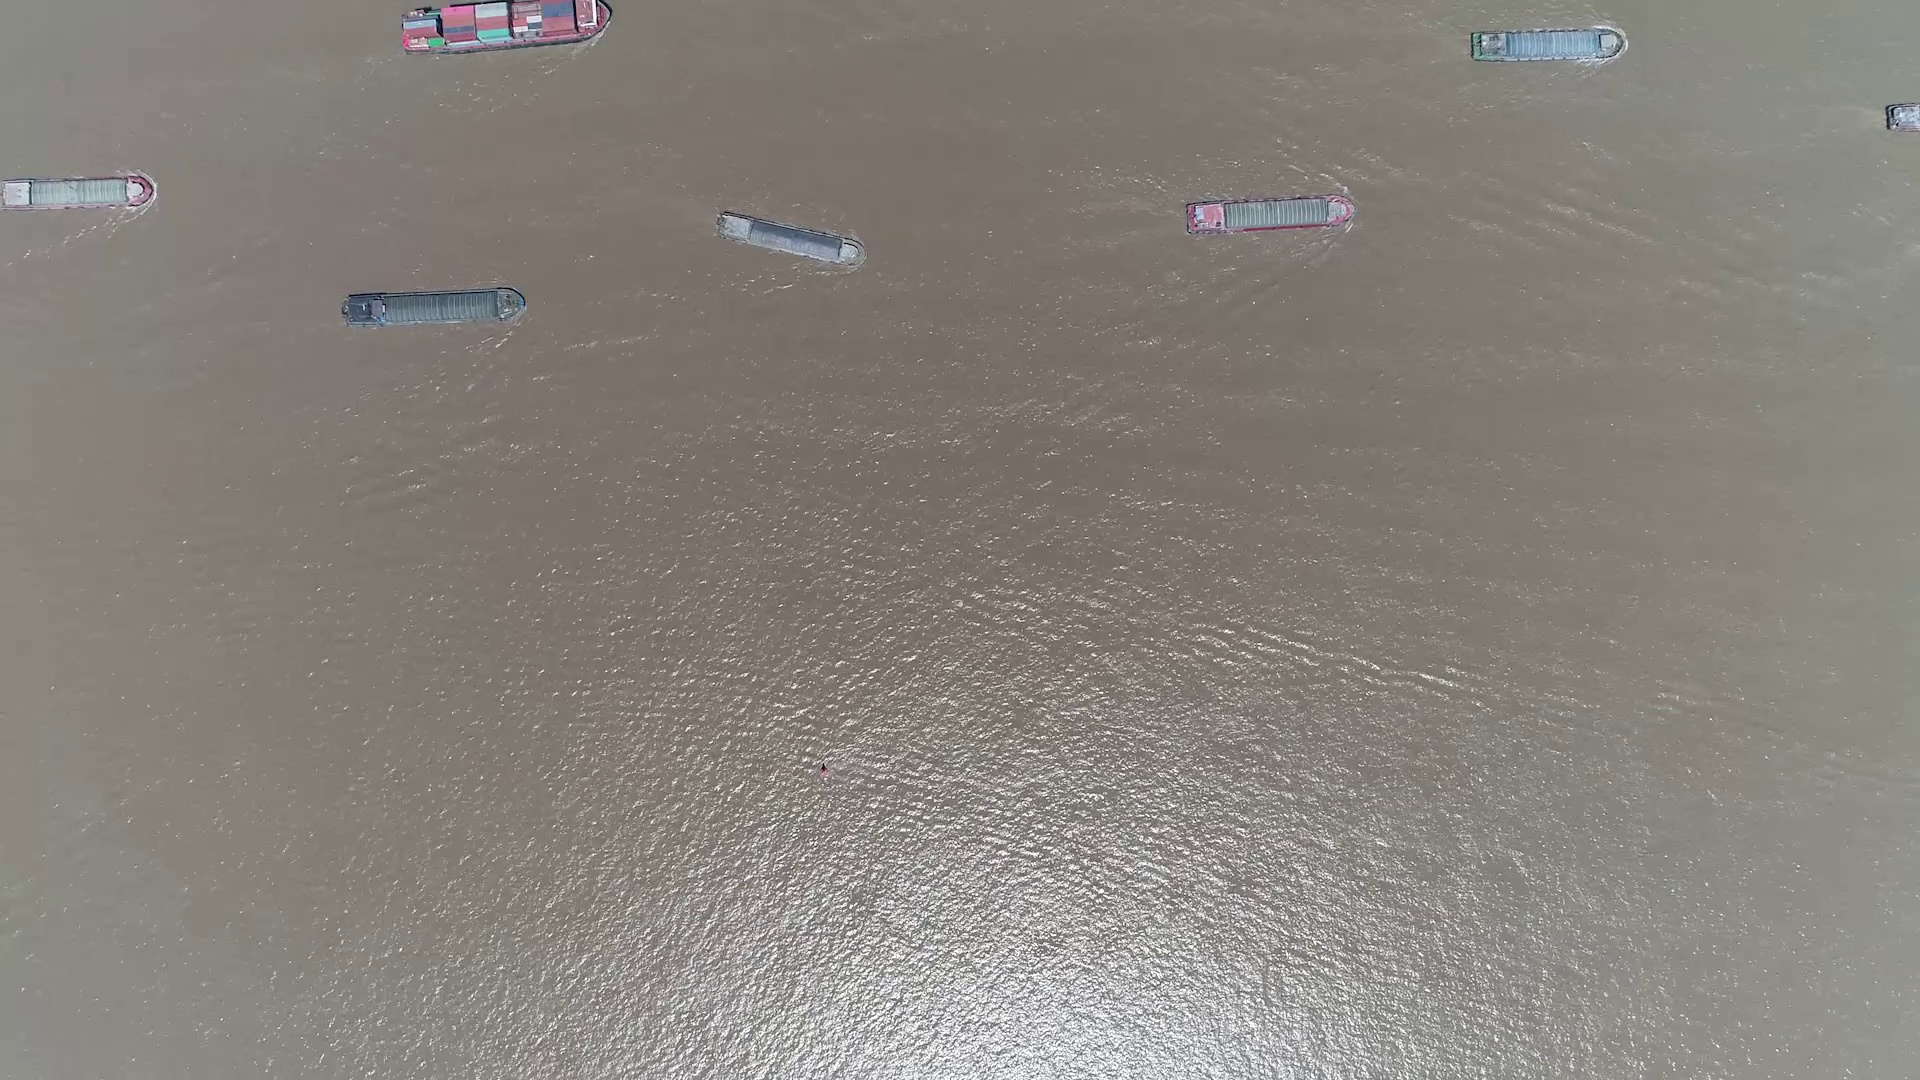ship: (400, 1, 611, 51), (715, 211, 862, 265), (342, 287, 524, 328), (1187, 196, 1354, 233), (1472, 26, 1625, 63), (3, 178, 153, 208)
